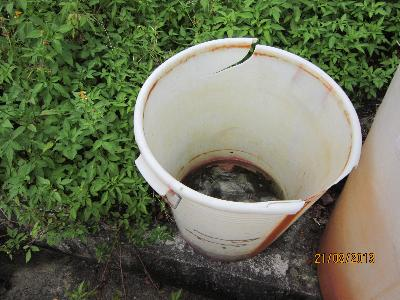bucket: (133, 35, 364, 264)
